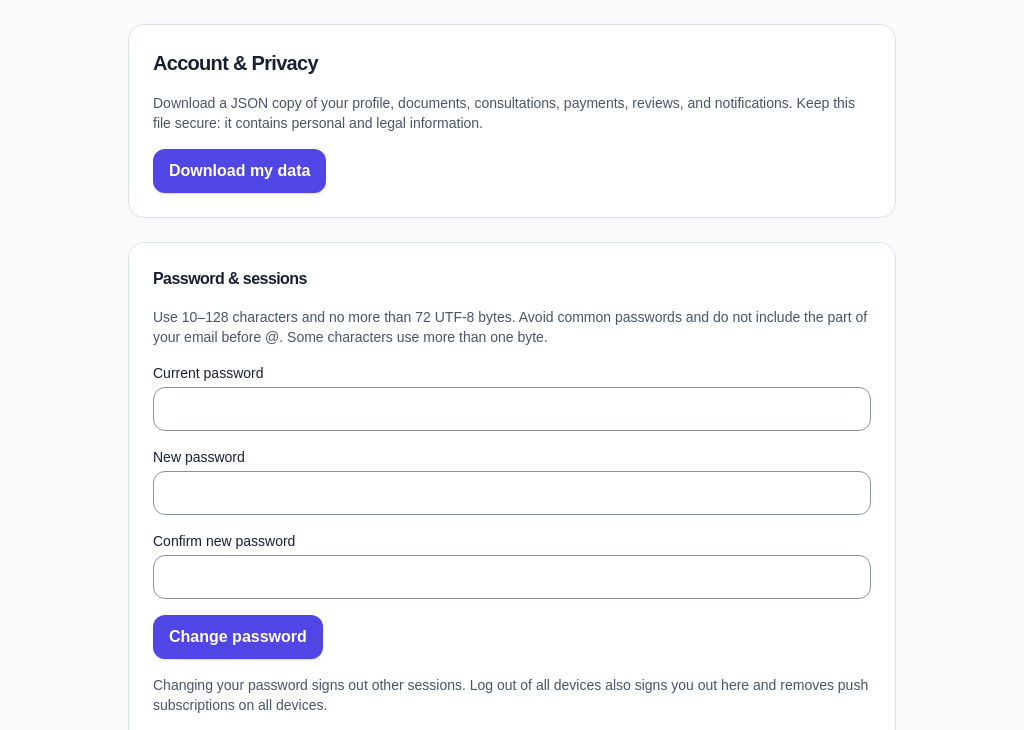
Test: shows download errors
This screenshot has width=1024, height=730.
Click the button "Download my data": (240, 171) [153,149,326,193]
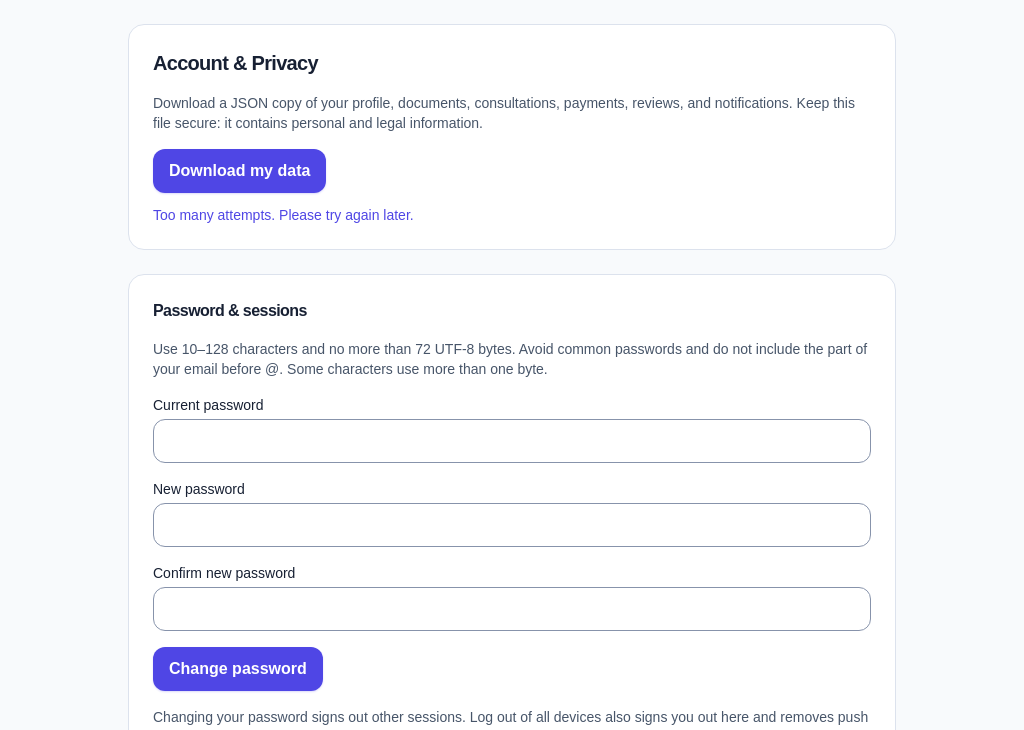
Check: the message shows "Too many attempts", box [153,207,414,223]
